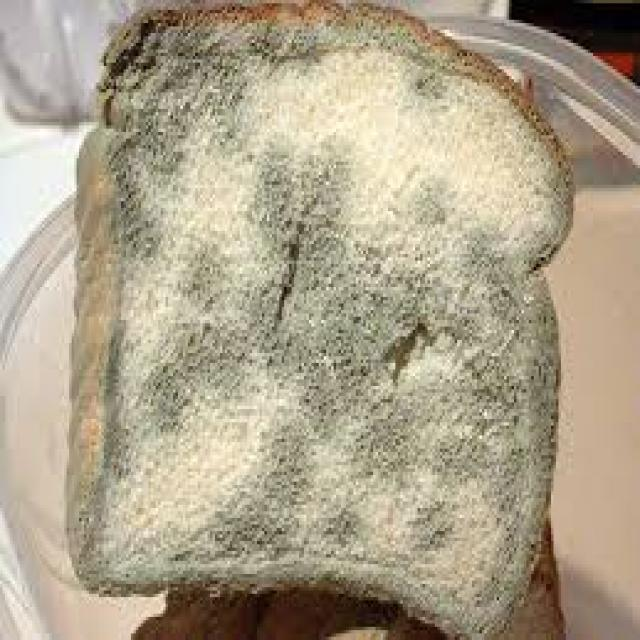organic waste: (62, 0, 568, 637), (128, 495, 566, 637)
